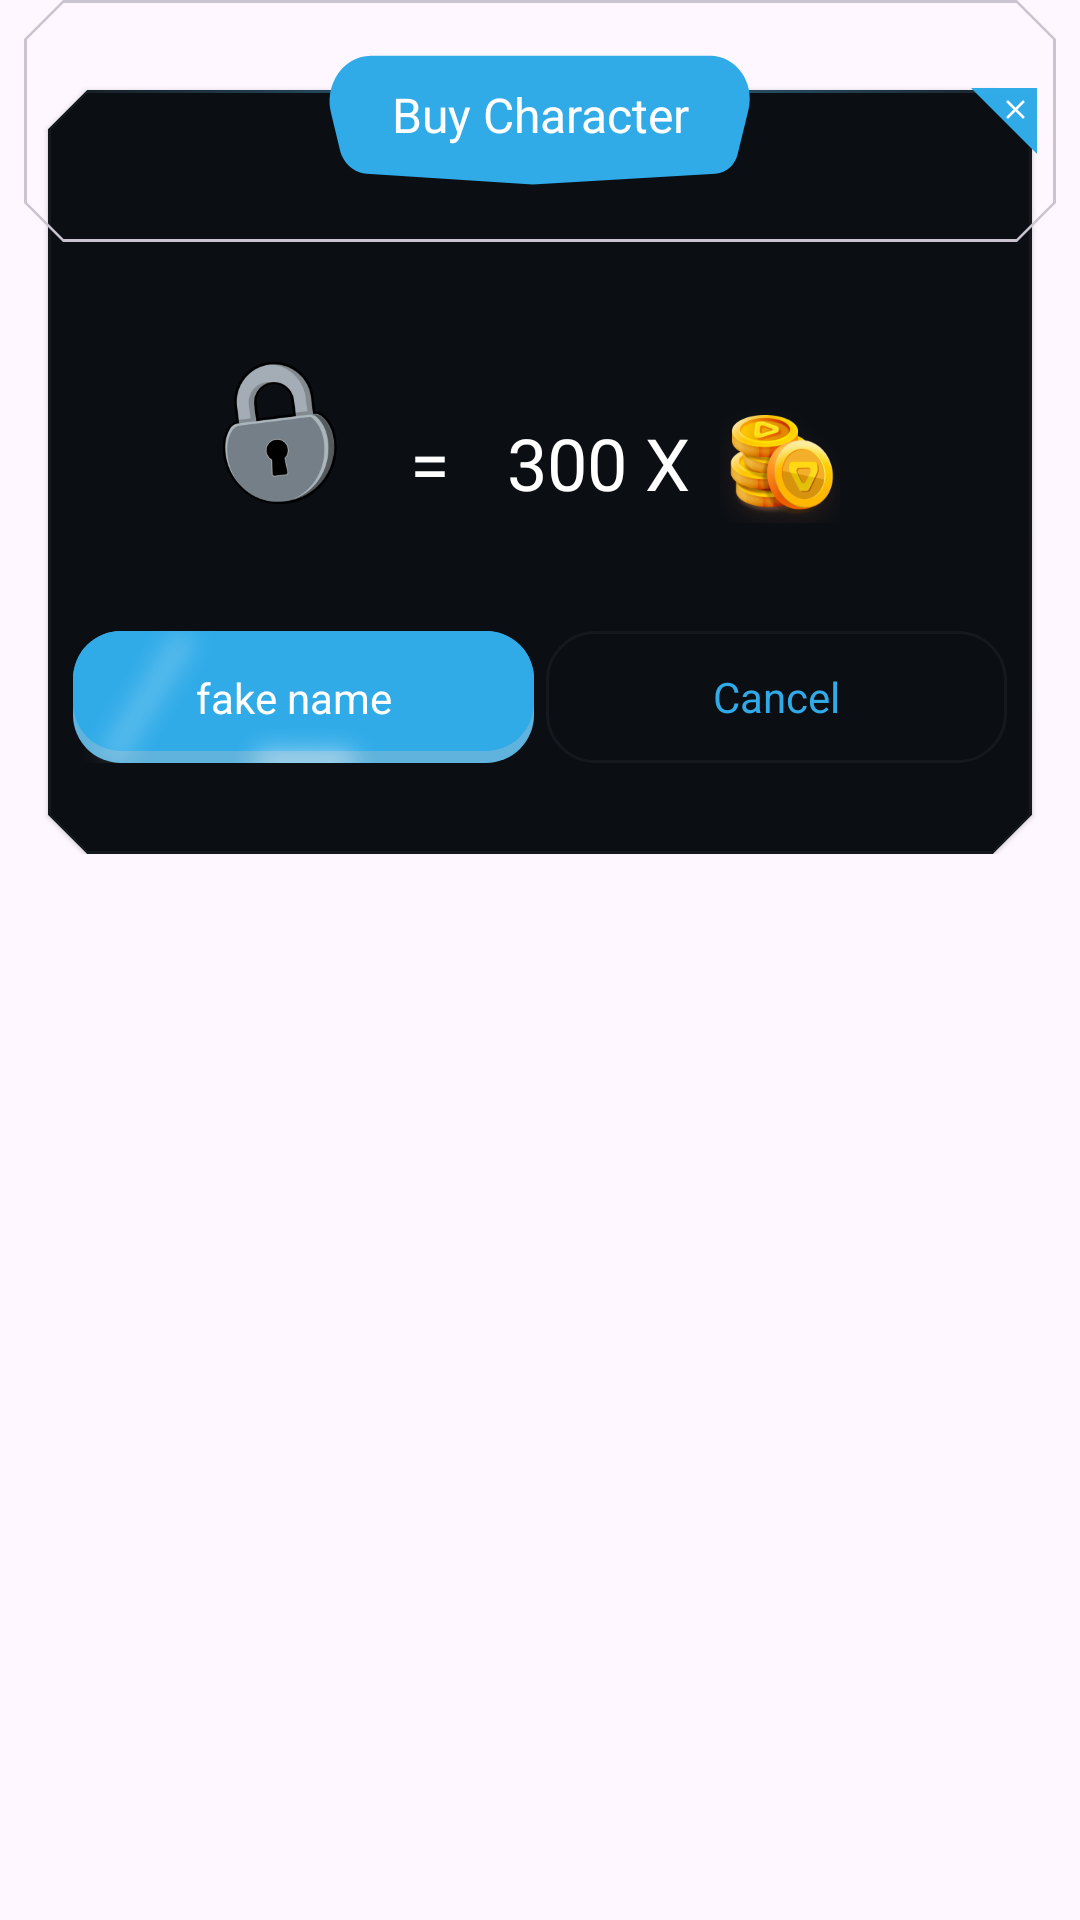

Where to tap for icons on this 1080px x 1920px app screen, as (x=x, y=y):
coins: (x=782, y=464)
lock: (x=279, y=433)
